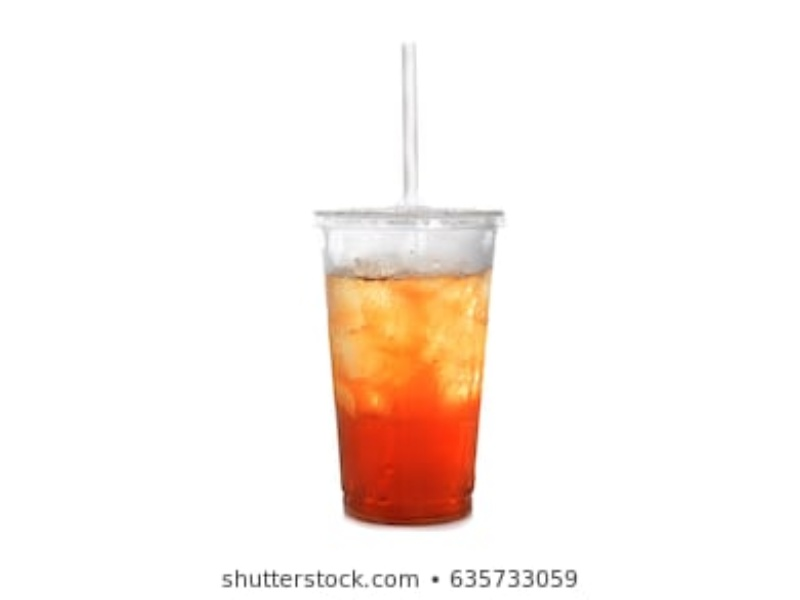plastic-cup: (315, 201, 506, 530)
straw: (395, 38, 429, 204)
